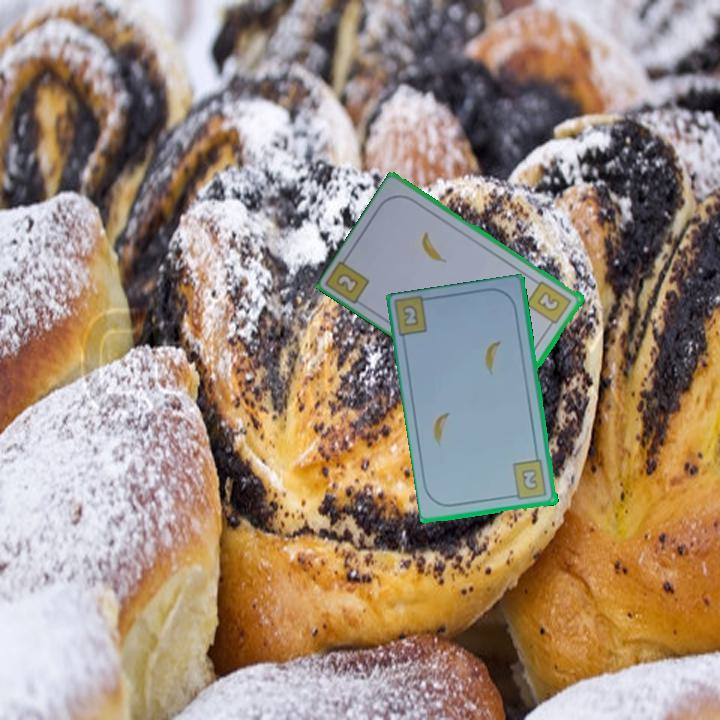2b: (523, 277, 575, 331), (508, 457, 550, 503), (333, 270, 362, 297), (399, 301, 422, 330)
